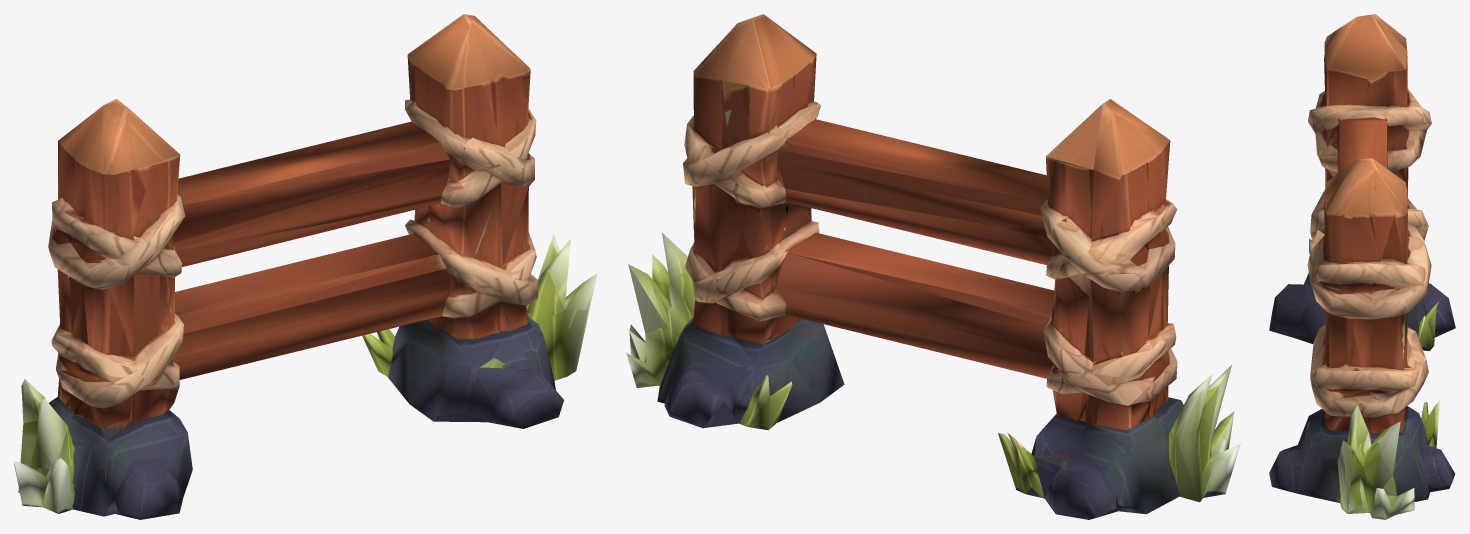
Rendered from low-fence.glb.
3 views of the same model, side by side, from view 1: azimuth 30°, elevation 25°; view 2: azimuth 150°, elevation 25°; view 3: azimuth 270°, elevation 25° (orthographic). The views are drawn at different scales.
Visible parts, largest first — view 1: fence_low; view 2: fence_low; view 3: fence_low.
Part boxes in pixels (x1,y1,x2,y2): fence_low: (14,14,597,519); fence_low: (626,14,1240,519); fence_low: (1269,14,1455,519).
Size of the model in its own units: 1.8 by 1.09 by 0.5854.
1 material, 1 textured.
